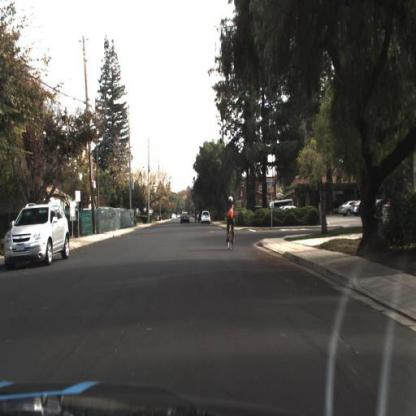biker: (222, 192, 237, 254), (226, 195, 238, 255)
car: (2, 200, 72, 273), (4, 204, 69, 268), (337, 198, 358, 219), (202, 210, 213, 224), (181, 211, 191, 226)
